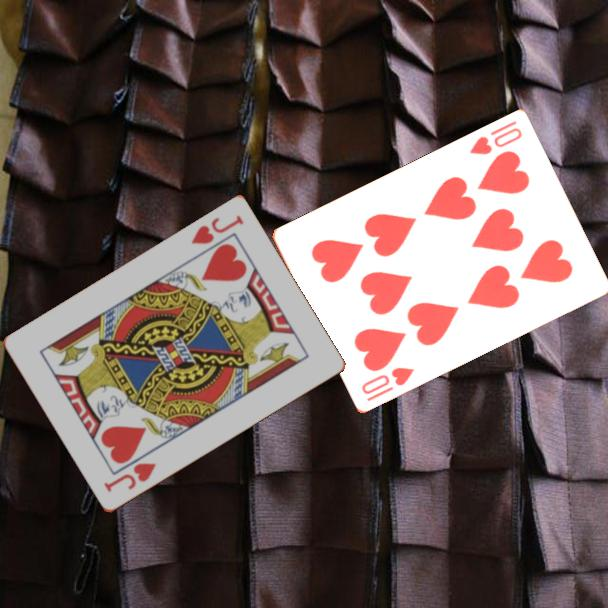h10: (358, 364, 417, 405), (466, 118, 525, 158)
h11: (187, 212, 247, 248), (100, 460, 159, 496)
